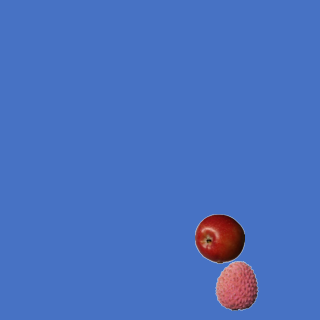Apple Braeburn: (194, 213, 244, 263)
Lychee: (211, 260, 261, 310)
